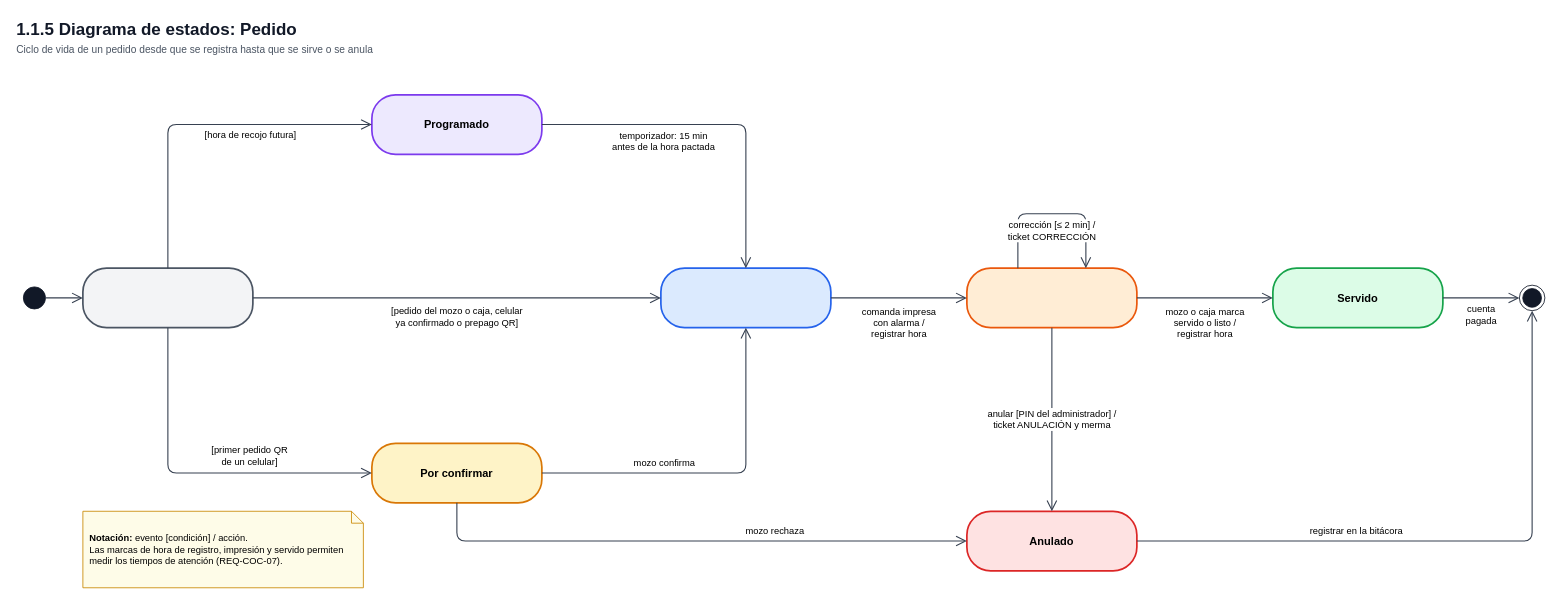
Some shapes in this 1560 by 603 pixel diagram are drawn without their labels. The shapes that lost their labels are listed below. From the top down, each one's centre as x and y in pixels, then its label:
the point at 167,297: Registrado
the point at 745,297: Confirmado
the point at 1051,297: En preparación
